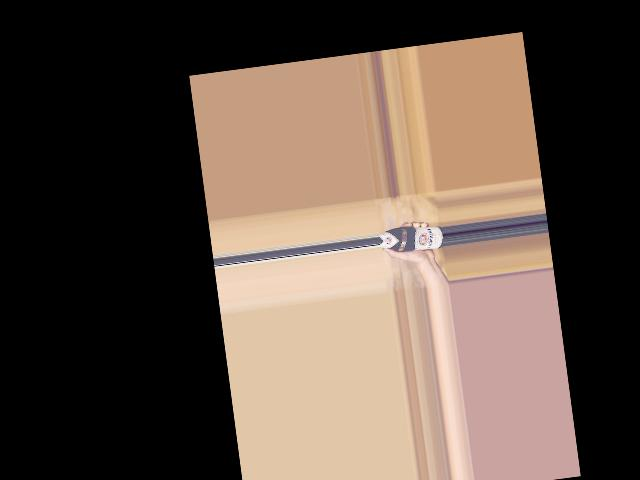beer: (378, 222, 445, 256)
